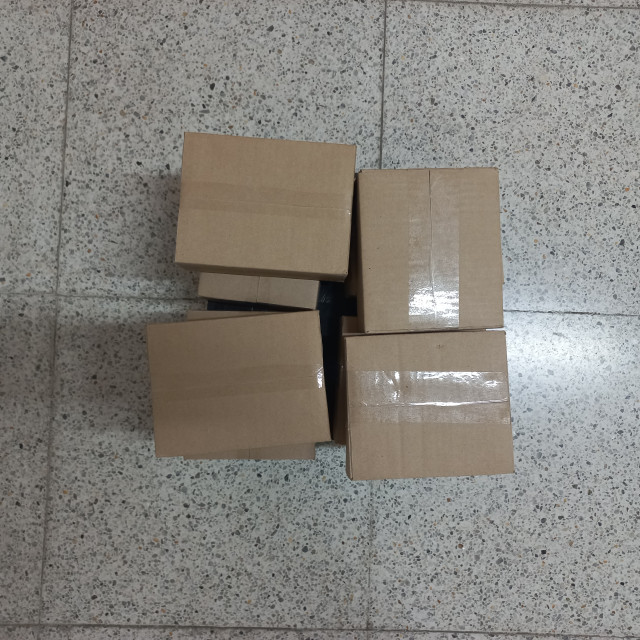box: (141, 304, 333, 459), (170, 129, 360, 279), (353, 167, 508, 335), (341, 332, 516, 478)
